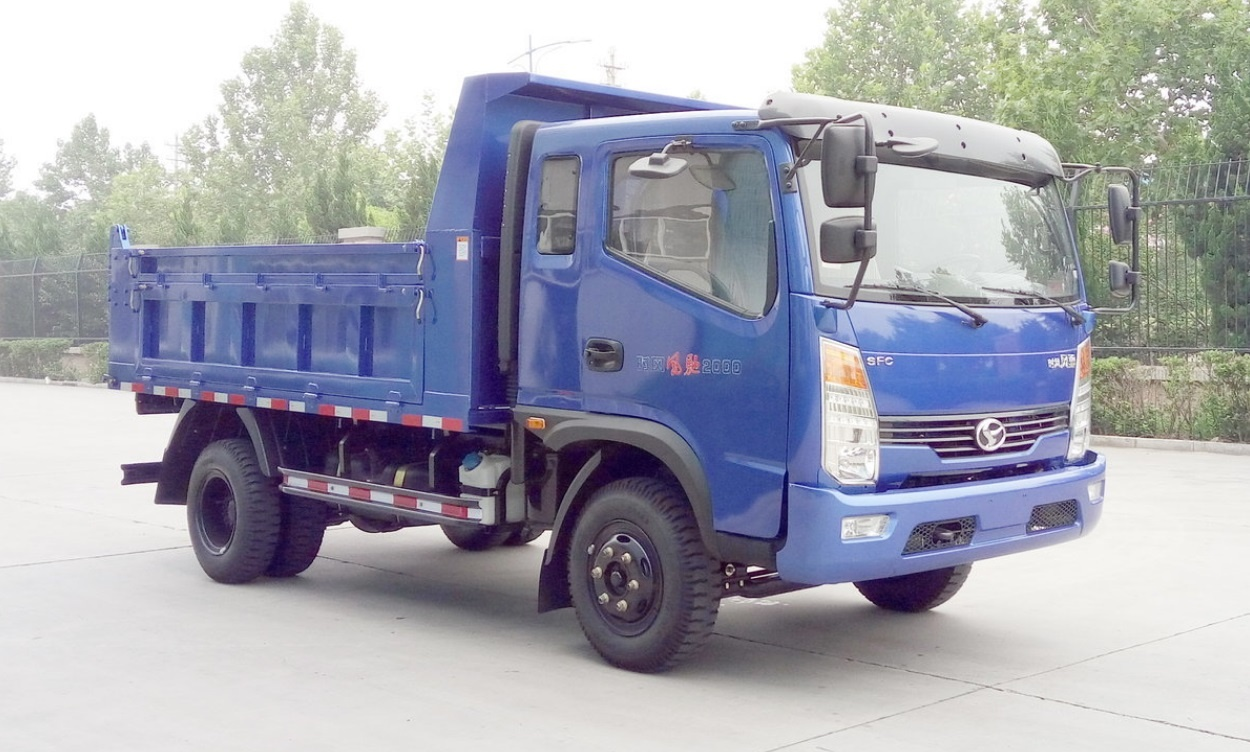truck: (79, 78, 1137, 663)
